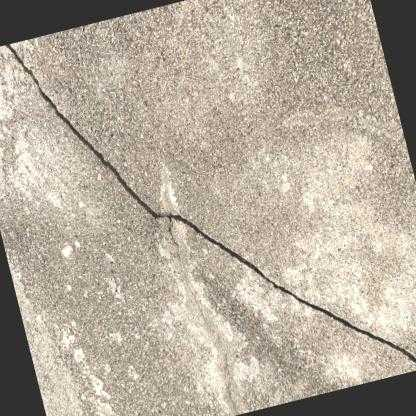crack: (2, 43, 416, 365)
